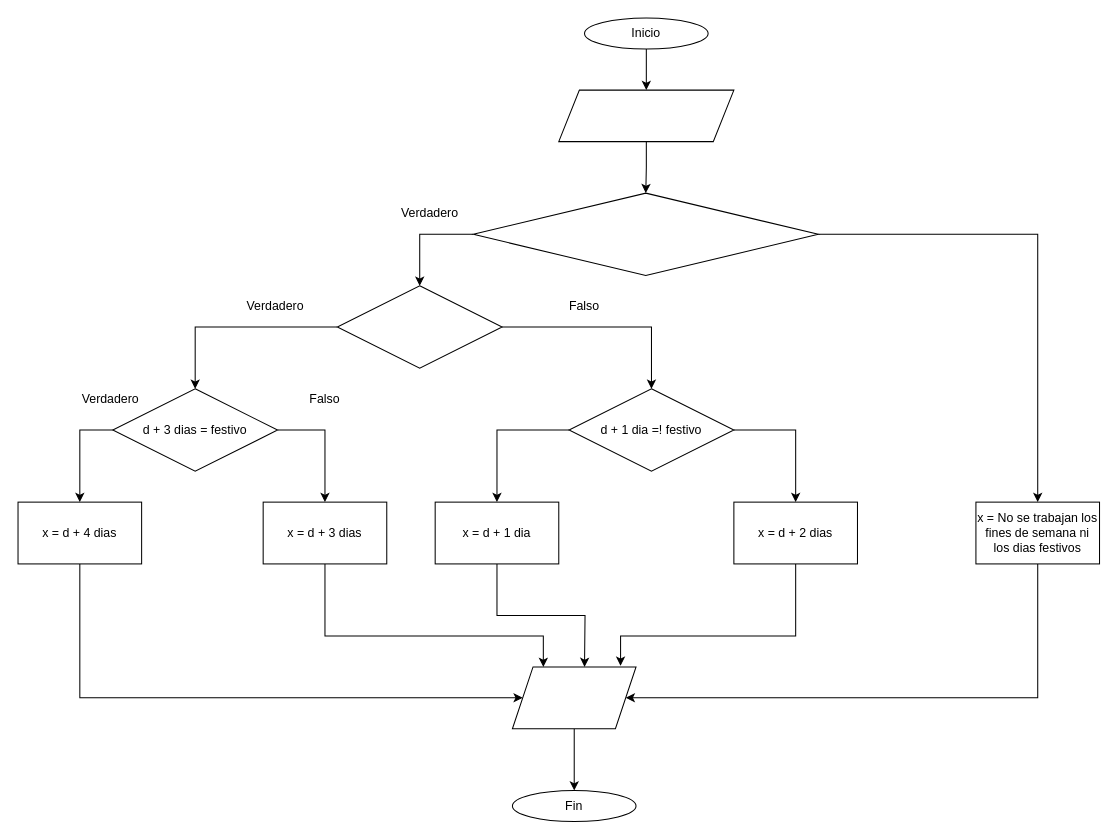
This 1118x839 diagram has some shape labels left out. Here are the shapes that lost their labels. From the top down, the centre of each, then its label:
pixel 646 115: Leer d = fecha actual Leer x = fecha de entrega
pixel 645 234: d =! sabado ^ d=! domingo ^ d =! dia festivo
pixel 419 326: d + 1 dia = sabado
pixel 573 697: Escribir x
